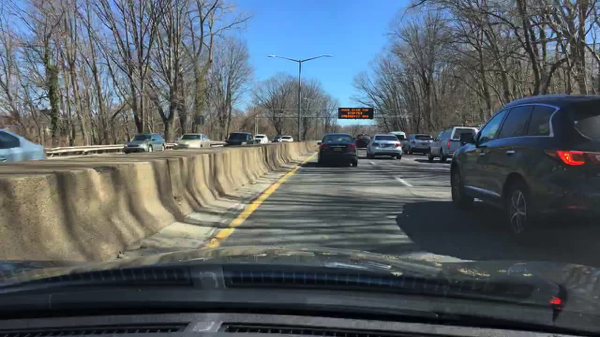car: (447, 92, 599, 241), (427, 126, 480, 162), (1, 127, 46, 164), (316, 133, 359, 169), (365, 133, 403, 162), (123, 132, 167, 154), (172, 132, 212, 151), (221, 132, 254, 148), (410, 133, 433, 154), (386, 131, 407, 148), (354, 133, 372, 149), (253, 133, 269, 145), (281, 135, 294, 143), (272, 136, 280, 141)
person: (401, 138, 410, 154)
traffic sign: (337, 107, 374, 119)
